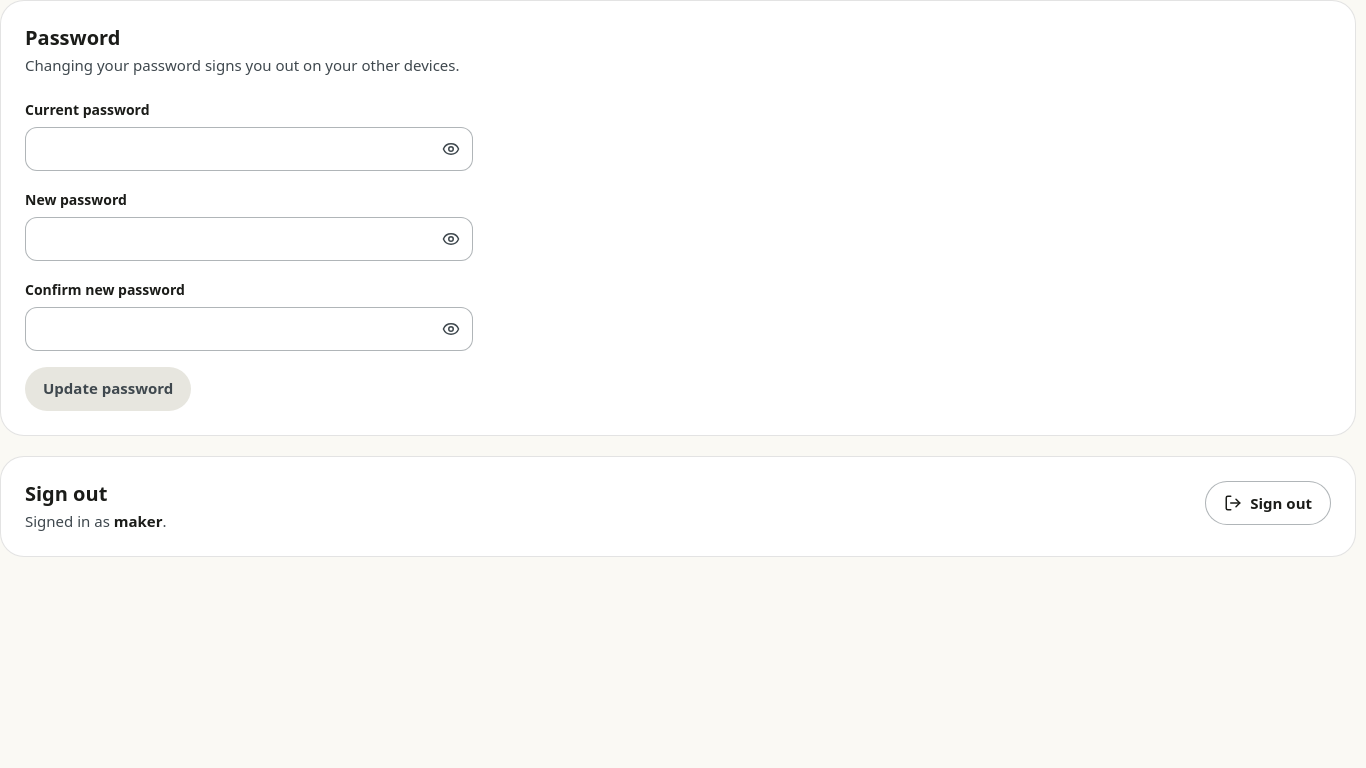
member sign out › still resets the view and says so when the server cannot confirm the logout
Click the button named "Sign out" in the row of "maker" at (1268, 503), box [1205, 480, 1331, 525]
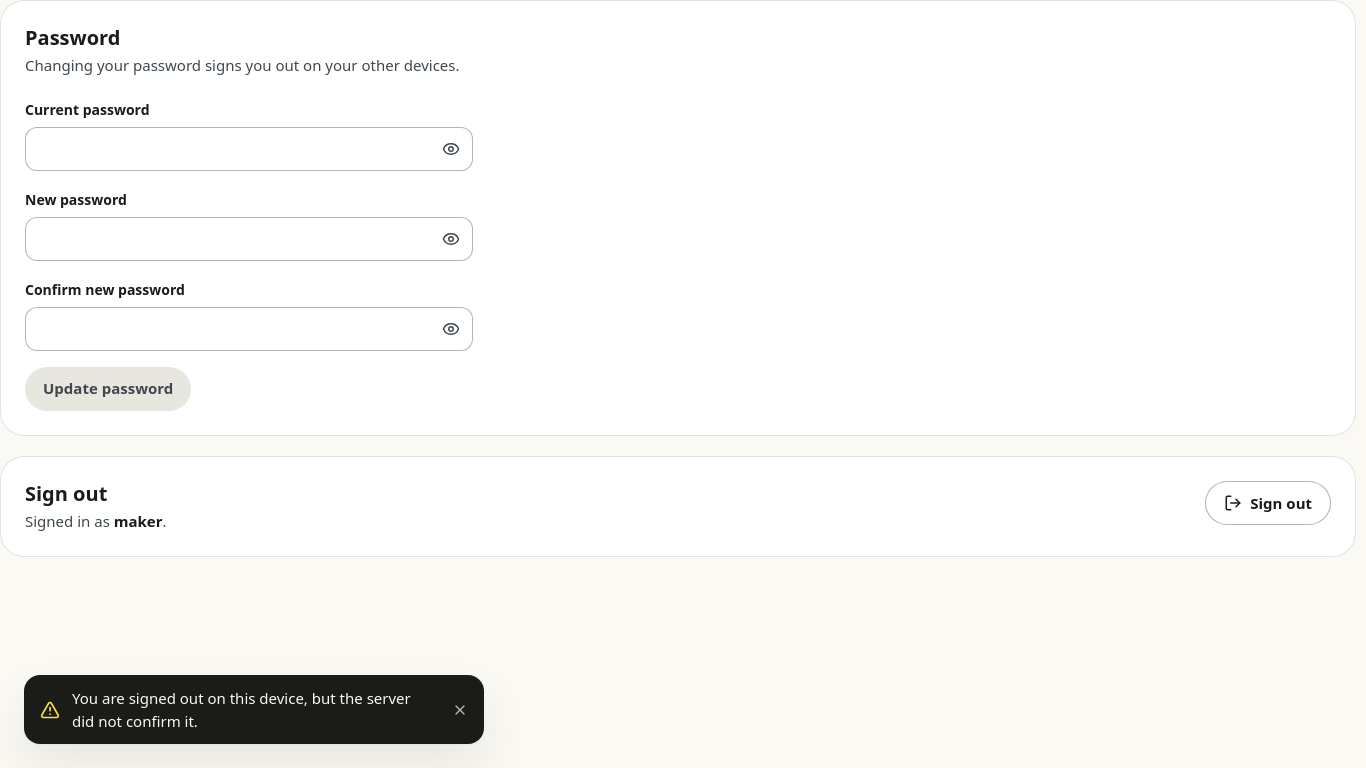
Now the message shows "the server did not confirm it", box [72, 688, 411, 730]
